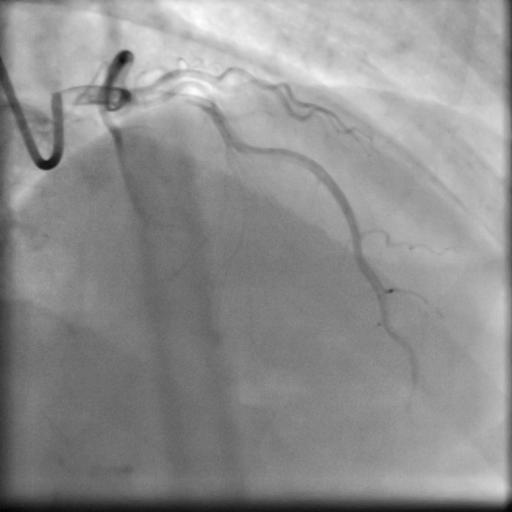Stenosis: (146, 88, 209, 109)
